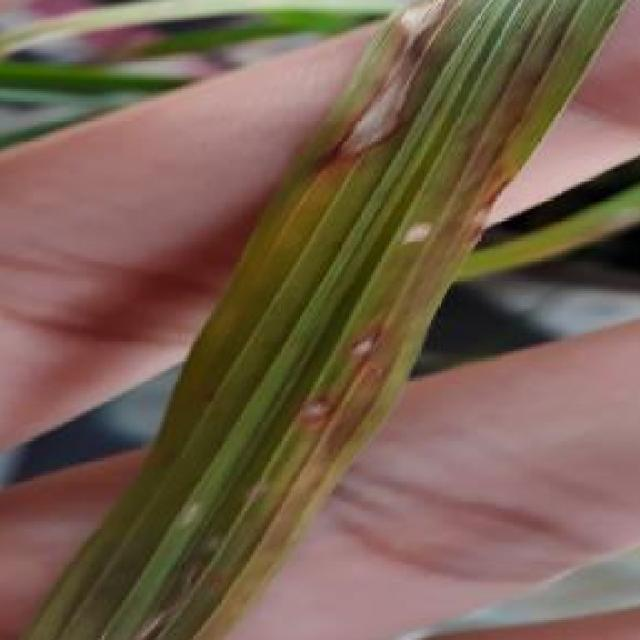Leaf_Blast: (294, 56, 434, 162), (360, 0, 480, 73), (267, 384, 353, 440), (333, 322, 411, 380), (391, 202, 445, 254)
